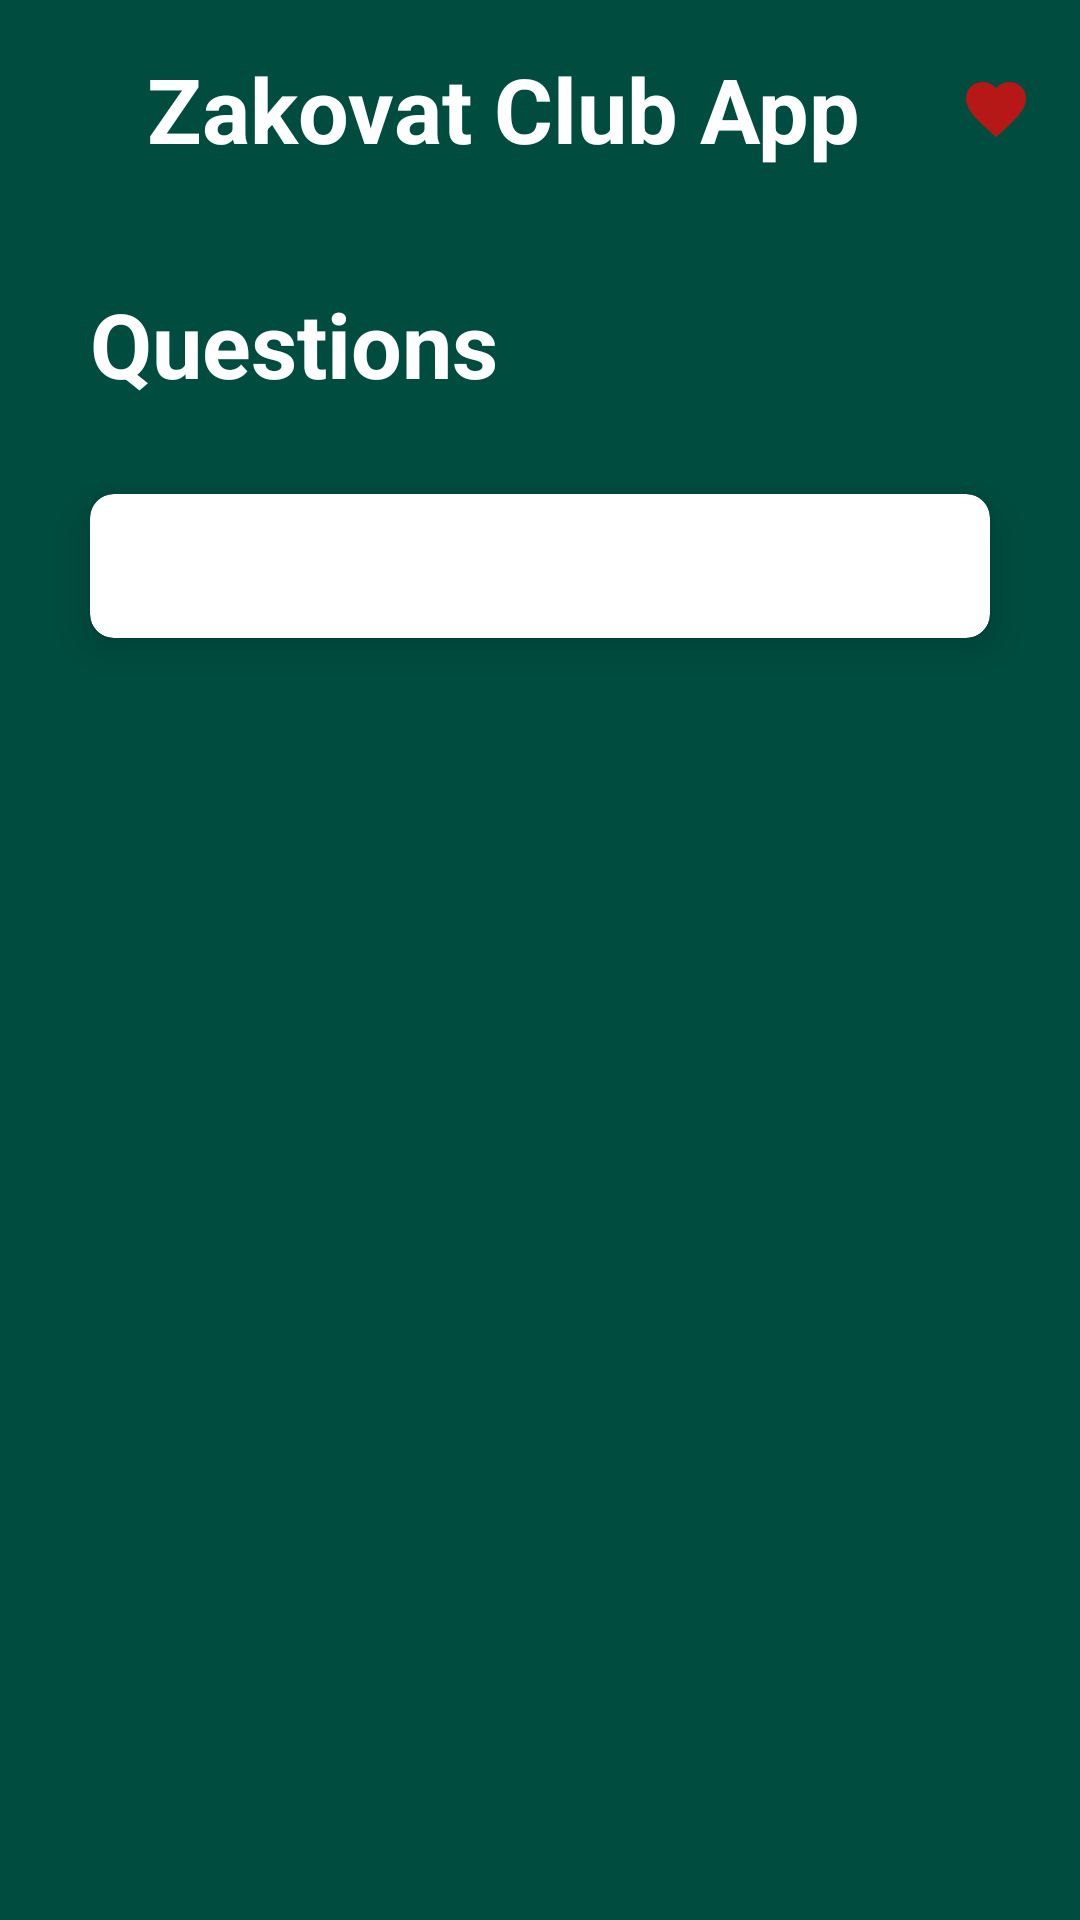

Locate icon controls on the screen. Image size 1080 x 1920, boxes as (x1, y1, x2, y2).
favorite: (966, 82, 1026, 137)
